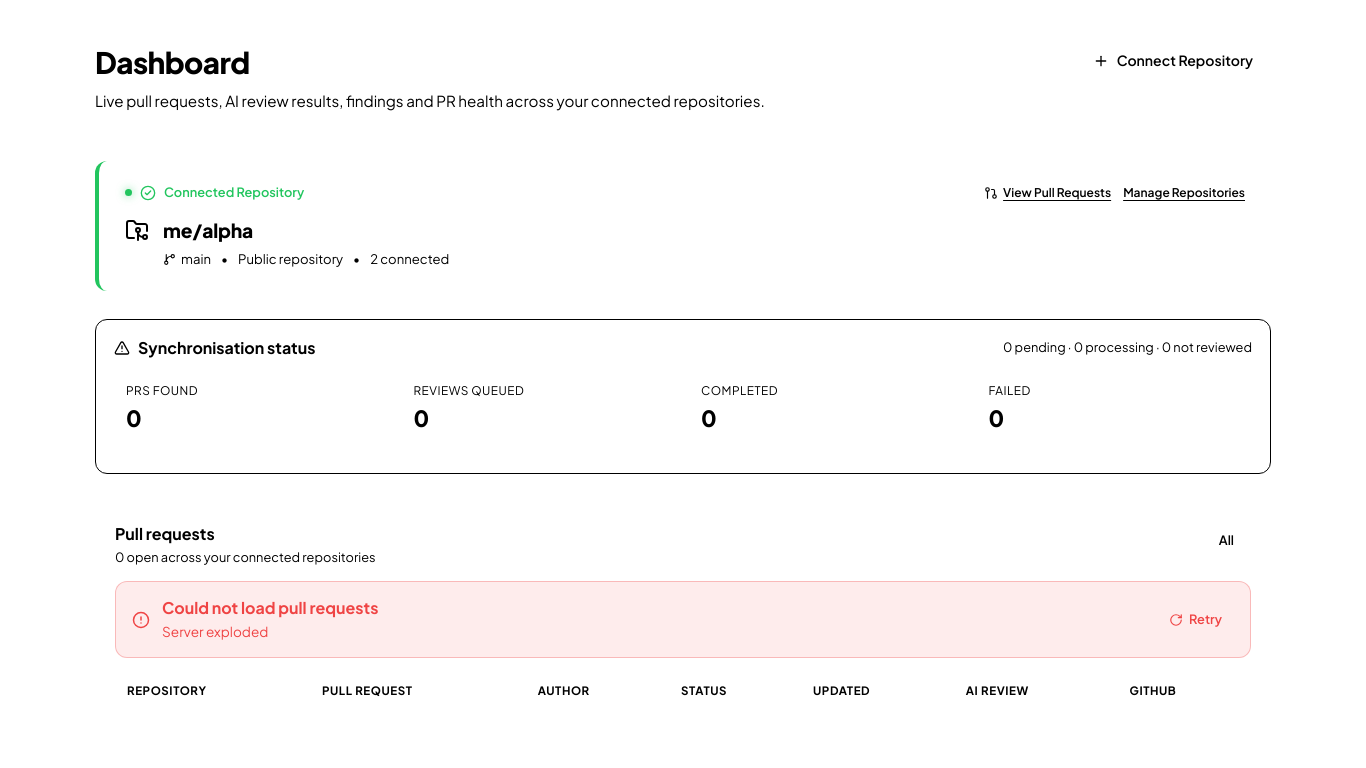
it: Dashboard › shows an error with retry when the pull request list cannot be loaded
Expected: the message shows "Server exploded", x1=162 y1=623 x2=268 y2=640
Click the button "Retry" at (1196,620), box x1=1157 y1=604 x2=1234 y2=635
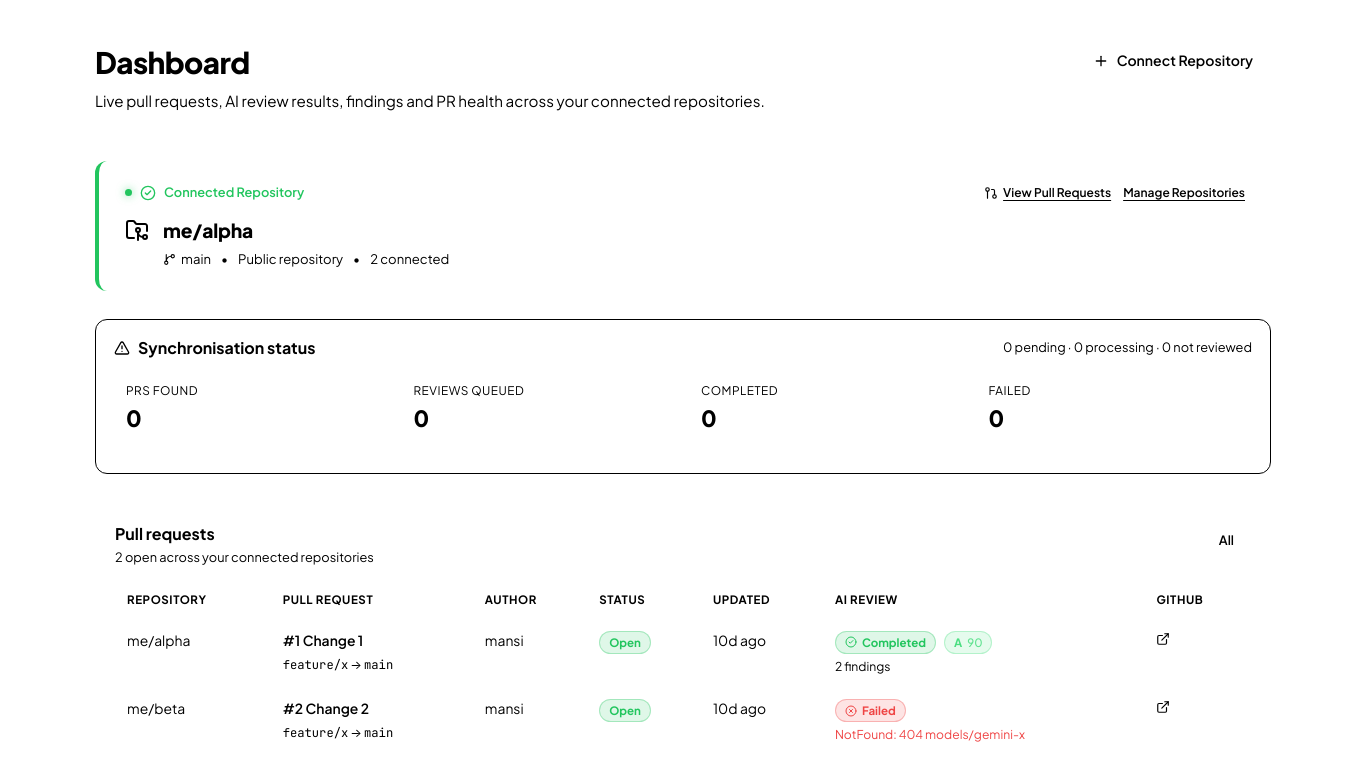
Expected: the number of rows with test id "pr-row" is 2, x1=115 y1=619 x2=1251 y2=687; x1=115 y1=687 x2=1251 y2=756
